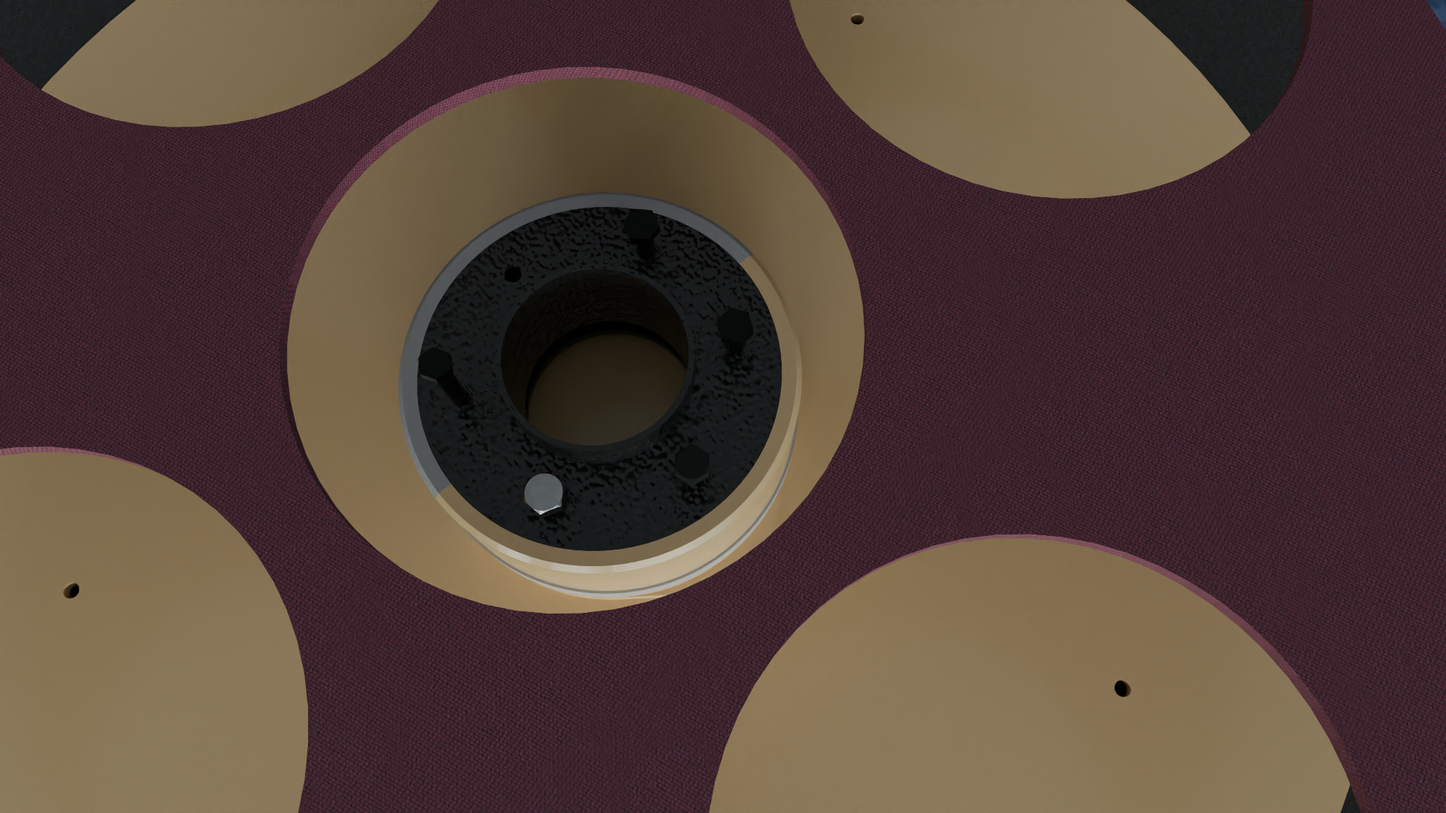bolt: (523, 472, 566, 515), (675, 445, 709, 483), (717, 308, 753, 343), (623, 209, 659, 239), (418, 347, 450, 380)
